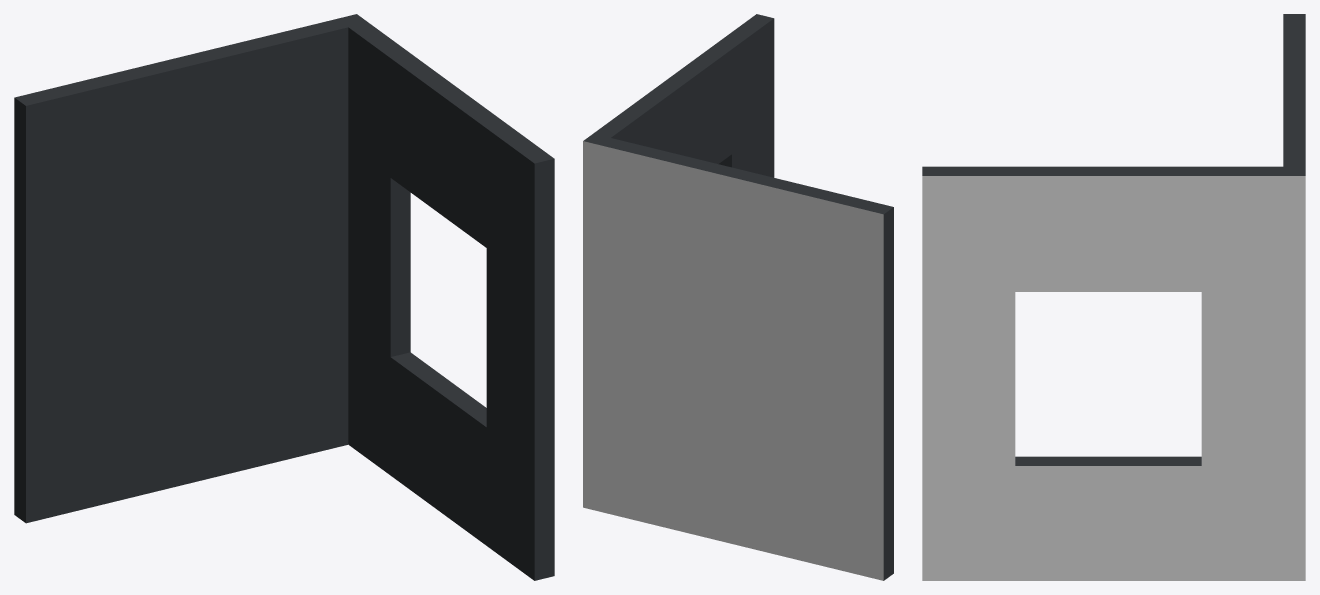
The model's file is Wall1_C4_11.fbx.
The picture shows the model from 3 angles, left to right: view 1: azimuth 30°, elevation 25°; view 2: azimuth 150°, elevation 25°; view 3: azimuth 270°, elevation 25°; orthographic projection. The views are drawn at different scales.
Parts seen in each view (by area): view 1: Wall1_C4_11; view 2: Wall1_C4_11; view 3: Wall1_C4_11.
Part boxes in pixels (x1=…): Wall1_C4_11: x1=14, y1=14, x2=554, y2=580; Wall1_C4_11: x1=583, y1=14, x2=893, y2=580; Wall1_C4_11: x1=922, y1=14, x2=1305, y2=580.
Size of the model in its own units: 258 by 300 by 258.
